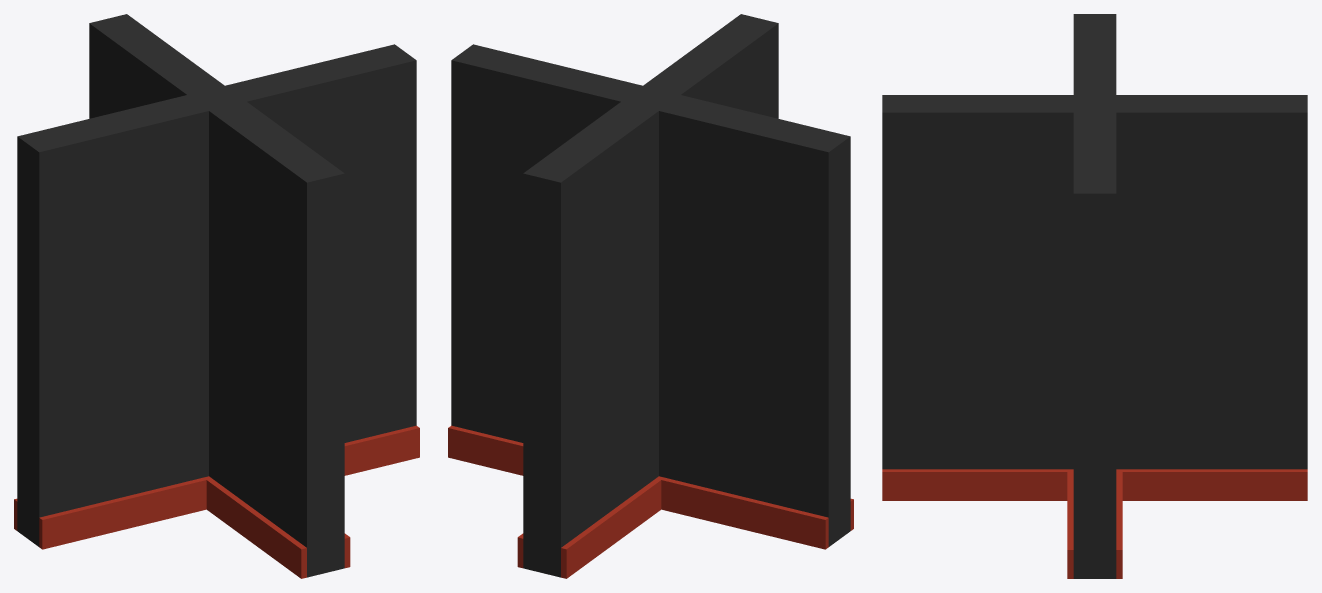
The model's file is CrossWall.fbx.
The picture shows the model from 3 angles, left to right: view 1: azimuth 30°, elevation 25°; view 2: azimuth 150°, elevation 25°; view 3: azimuth 270°, elevation 25°; orthographic projection. The views are drawn at different scales.
Visible parts, largest first — view 1: fourCorners; view 2: fourCorners; view 3: fourCorners.
Boxes of the visible parts, x1=… form: fourCorners: x1=14, y1=14, x2=419, y2=578; fourCorners: x1=448, y1=14, x2=853, y2=578; fourCorners: x1=882, y1=14, x2=1307, y2=578.
Size of the model in its own units: 200 by 200 by 200.
